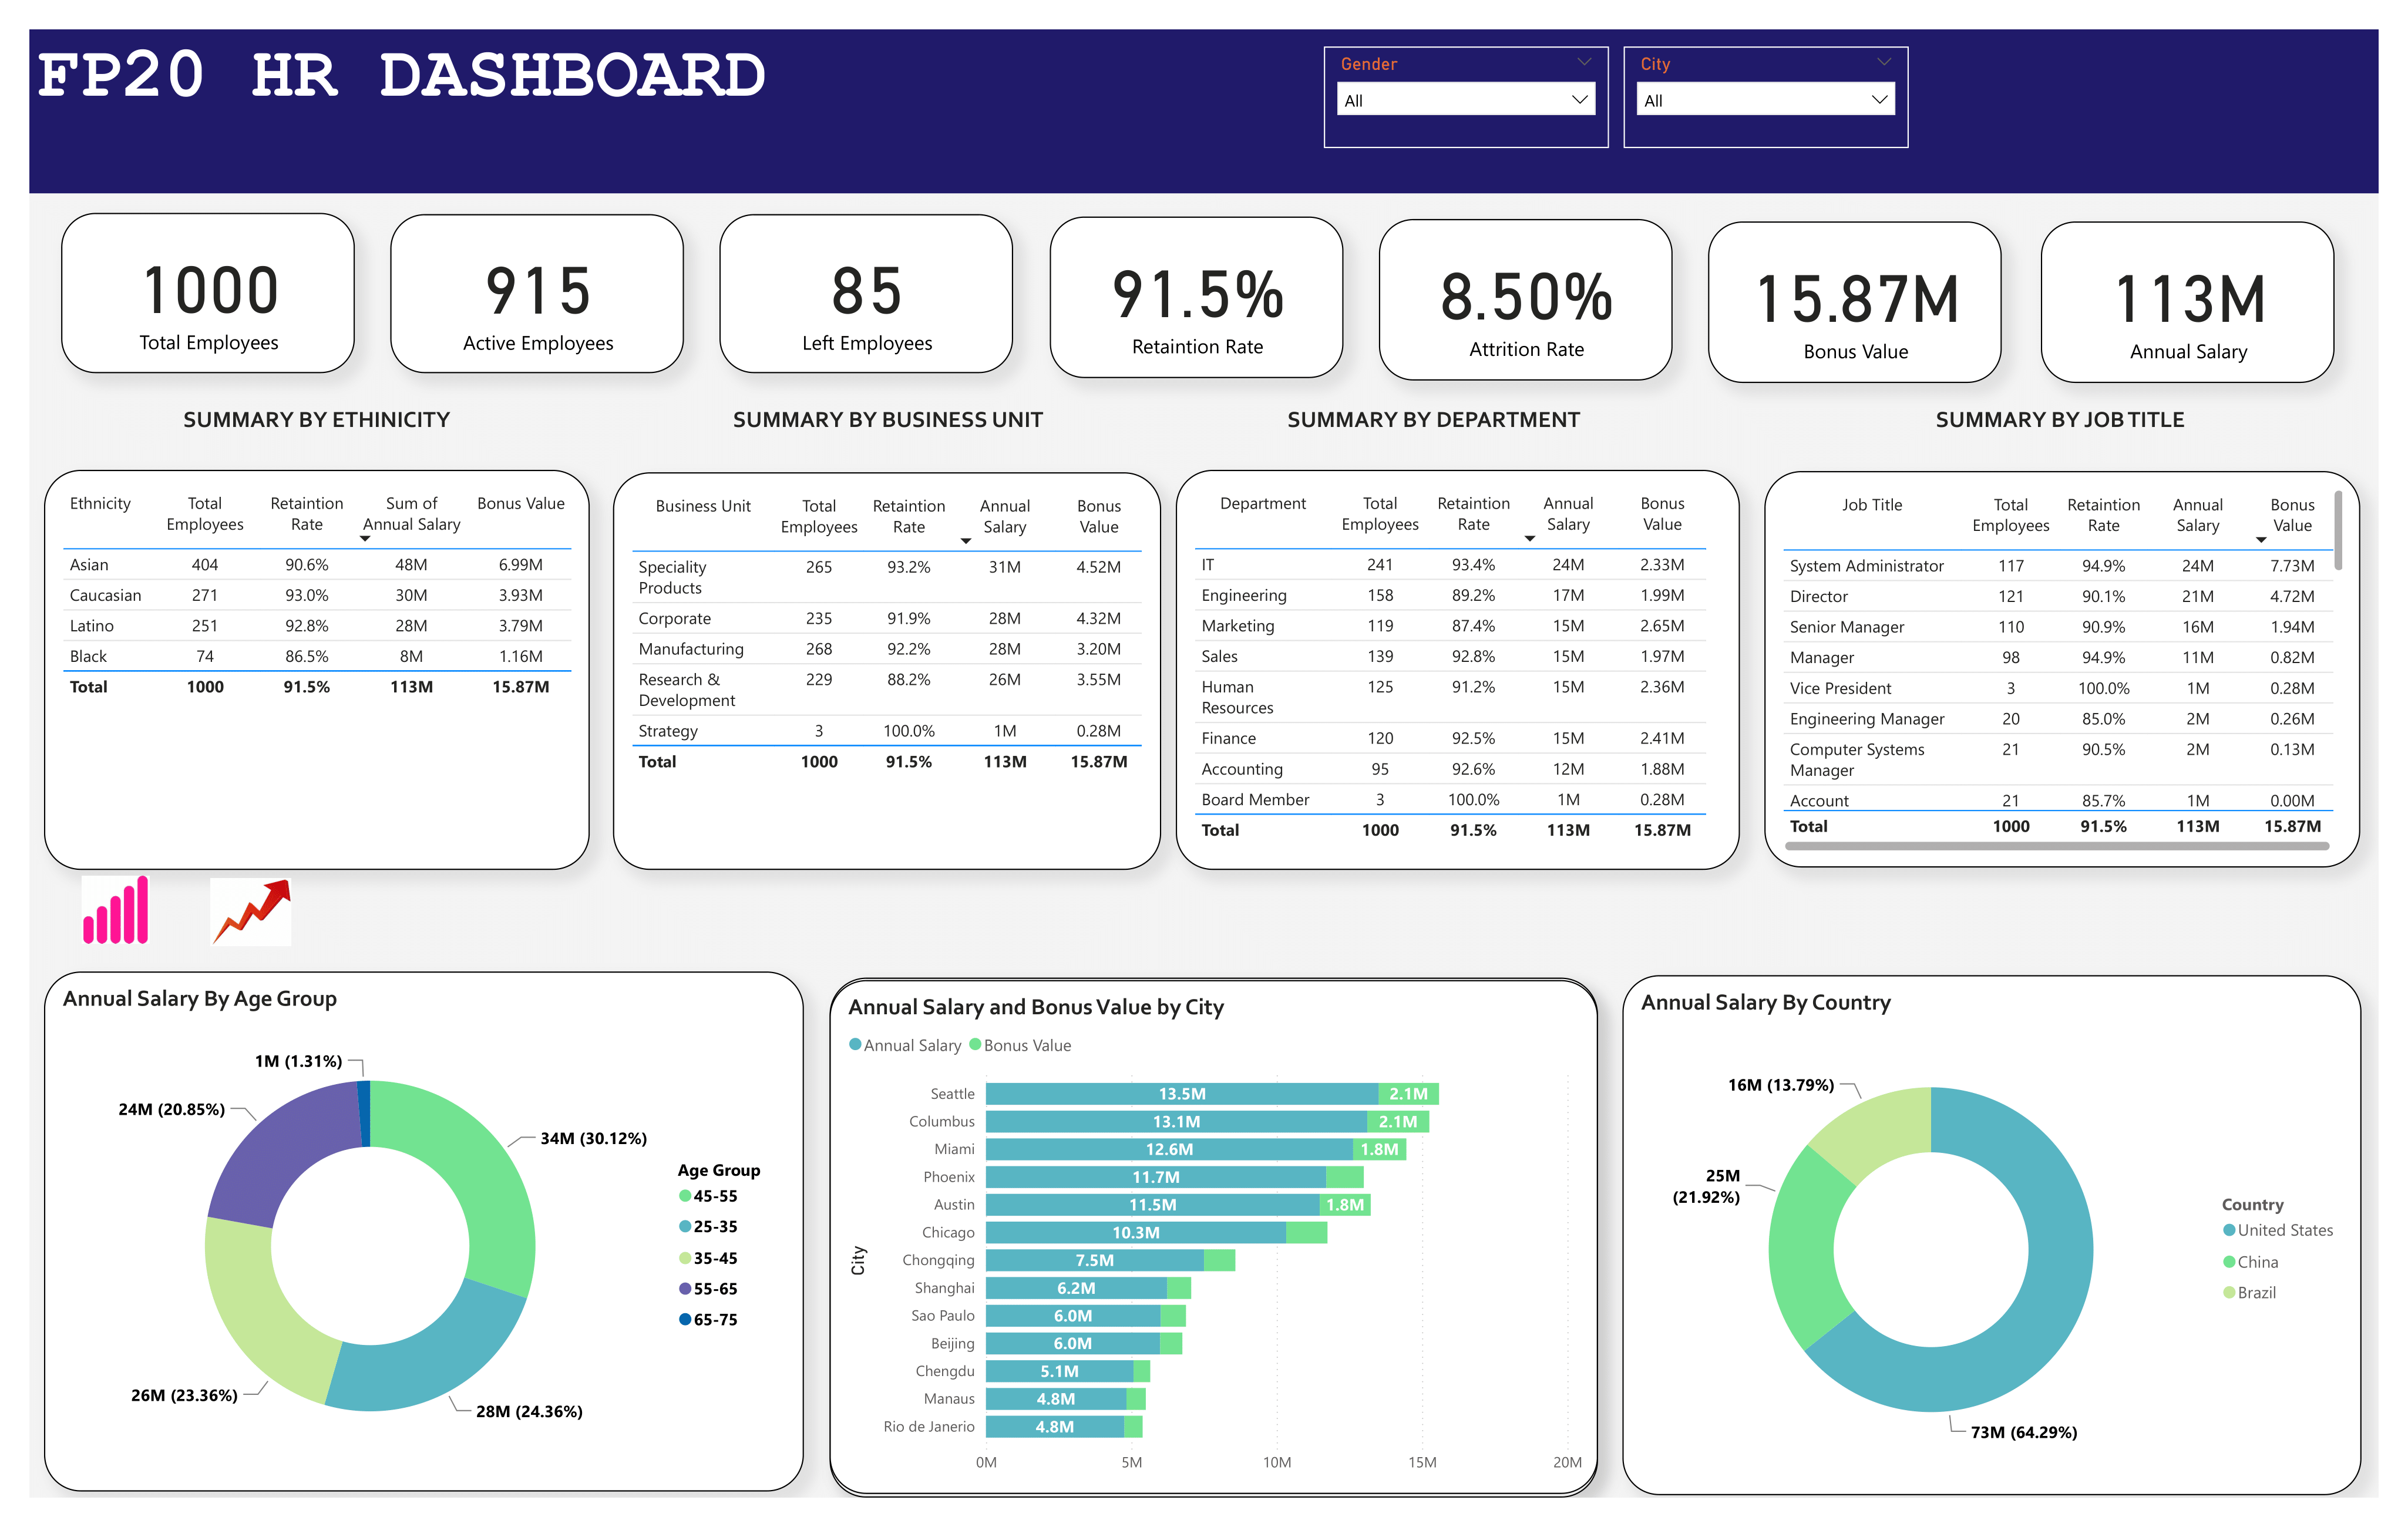

The dashboard page shown, as its layout file describes it:
{"tool":"powerbi","page":{"name":"Dashboard","canvas":[1920,1200],"ordinal":0},"visuals":[{"type":"tableEx","fields":{"Values":["Dataset.Business Unit","Measures (2).Total Employees","Measures (2).Retaintion Rate","Sum(Dataset.Annual Salary)","Measures (2).Bonus Value"]},"box":[476.7,361.7,448.3,325],"z":0},{"type":"columnChart","title":"Annual Salary and Bonus Value by Age Group","fields":{"Category":["Dataset.Age Group"],"Y":["Sum(Dataset.Annual Salary)","Measures (2).Bonus Value"]},"box":[653.7,774.9,628.4,425.1],"z":1000},{"type":"barChart","title":"Annual Salary and Bonus Value by City","fields":{"Y":["Sum(Dataset.Annual Salary)","Measures (2).Bonus Value"],"Category":["Dataset.City"]},"box":[654.1,777.3,628.1,419.9],"z":2000},{"type":"donutChart","title":"Annual Salary By Age Group","fields":{"Y":["Sum(Dataset.Annual Salary)"],"Category":["Dataset.Age Group"]},"box":[12.1,770.4,621.1,425.1],"z":3000},{"type":"donutChart","title":"Annual Salary By Country","fields":{"Y":["Sum(Dataset.Annual Salary)"],"Category":["Dataset.Country"]},"box":[1302.4,773,603.5,425.1],"z":4000},{"type":"tableEx","fields":{"Values":["Dataset.Ethnicity","Measures (2).Total Employees","Measures (2).Retaintion Rate","Sum(Dataset.Annual Salary)","Measures (2).Bonus Value"]},"box":[11.7,360,446.7,326.7],"z":5000},{"type":"tableEx","fields":{"Values":["Dataset.Job Title","Measures (2).Total Employees","Measures (2).Retaintion Rate","Sum(Dataset.Annual Salary)","Measures (2).Bonus Value"]},"box":[1417.7,360.7,487,324],"z":6000},{"type":"tableEx","fields":{"Values":["Dataset.Department","Measures (2).Total Employees","Measures (2).Retaintion Rate","Sum(Dataset.Annual Salary)","Measures (2).Bonus Value"]},"box":[936.7,360,461.7,326.7],"z":7000},{"type":"card","fields":{"Values":["Measures (2).Total Employees"]},"box":[25.6,150.1,240,131],"z":8000},{"type":"card","fields":{"Values":["Measures (2).Left Employees"]},"box":[564.3,151.2,240,130.1],"z":9000},{"type":"card","fields":{"Values":["Measures (2).Active Employees"]},"box":[294.9,151.3,240,130.1],"z":10000},{"type":"card","fields":{"Values":["Measures (2).Retaintion Rate"]},"box":[833.7,153.5,240,131.9],"z":11000},{"type":"card","fields":{"Values":["Measures (2).Attrition Rate"]},"box":[1103.1,155.4,240,131.9],"z":12000},{"type":"card","fields":{"Values":["Measures (2).Bonus Value"]},"box":[1372.4,157.4,240,131.9],"z":14000},{"type":"card","fields":{"Values":["Sum(Dataset.Annual Salary)"]},"box":[1643.6,157.4,240,131.9],"z":15000},{"type":"textbox","box":[0,0,1920.4,133.8],"z":16000},{"type":"slicer","fields":{"Values":["Dataset.Gender"]},"box":[1058.4,13.9,232.5,83.3],"z":17000},{"type":"slicer","fields":{"Values":["Dataset.City"]},"box":[1303,13.9,232.5,83.3],"z":18000},{"type":"textbox","box":[12.1,301.9,445.9,41.6],"z":20000},{"type":"textbox","box":[478.9,301.9,445.9,41.6],"z":21000},{"type":"textbox","box":[924.8,301.9,445.9,41.6],"z":22000},{"type":"textbox","box":[1436.6,301.9,445.9,41.6],"z":23000},{"type":"image","box":[13,686.9,114.8,64.8],"z":26000},{"type":"image","box":[127.8,688.8,105.5,64.8],"z":27000}]}

Visuals, with their boxes in screenshot pixels (x1, y1, x2, y2):
tableEx - Dataset.Business Unit x Measures (2).Total Employees: 613:472:1161:870
"Annual Salary and Bonus Value by Age Group" columnChart: 829:977:1598:1498
"Annual Salary and Bonus Value by City" barChart: 830:980:1598:1494
"Annual Salary By Age Group" donutChart: 44:972:804:1492
"Annual Salary By Country" donutChart: 1623:975:2362:1495
tableEx - Dataset.Ethnicity x Measures (2).Total Employees: 43:470:590:870
tableEx - Dataset.Job Title x Measures (2).Total Employees: 1764:470:2360:867
tableEx - Dataset.Department x Measures (2).Total Employees: 1175:470:1740:870
card - Measures (2).Total Employees: 60:213:354:374
card - Measures (2).Left Employees: 720:214:1014:374
card - Measures (2).Active Employees: 390:214:684:374
card - Measures (2).Retaintion Rate: 1050:217:1343:379
card - Measures (2).Attrition Rate: 1379:220:1673:381
card - Measures (2).Bonus Value: 1709:222:2002:384
card - Sum(Dataset.Annual Salary): 2040:222:2334:384
textbox: 29:29:2379:193
slicer - Dataset.Gender: 1324:46:1609:149
slicer - Dataset.City: 1624:46:1908:149
textbox: 44:399:590:450
textbox: 616:399:1161:450
textbox: 1161:399:1707:450
textbox: 1787:399:2333:450
image: 45:870:186:949
image: 186:872:315:951
